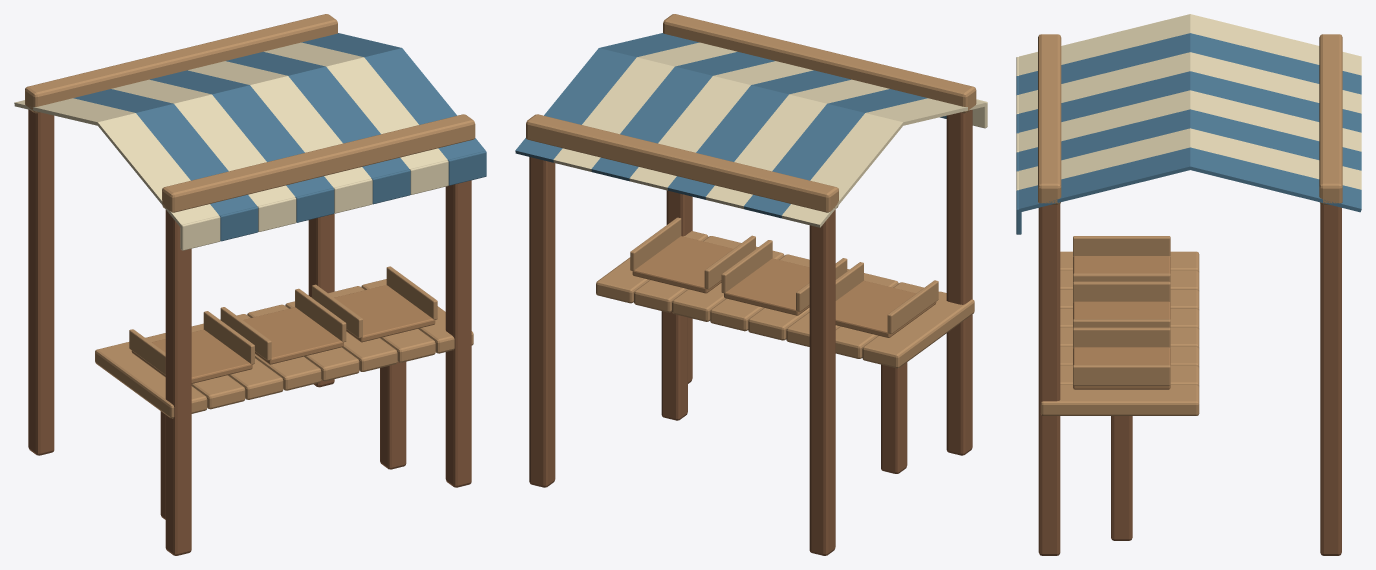
Rendered from market_stall_blue_2m.glb.
The picture shows the model from 3 angles, left to right: view 1: azimuth 30°, elevation 25°; view 2: azimuth 150°, elevation 25°; view 3: azimuth 270°, elevation 25°; orthographic projection. The views are drawn at different scales.
Parts seen in each view (by area): view 1: market_stall_blue_2m; view 2: market_stall_blue_2m; view 3: market_stall_blue_2m.
Boxes of the visible parts, left/top/right/bottom form: market_stall_blue_2m: left=14, top=14, right=486, bottom=555; market_stall_blue_2m: left=515, top=14, right=987, bottom=555; market_stall_blue_2m: left=1016, top=14, right=1361, bottom=555.
Bounding box in the file's own units: 2 × 2.4 × 1.92.
